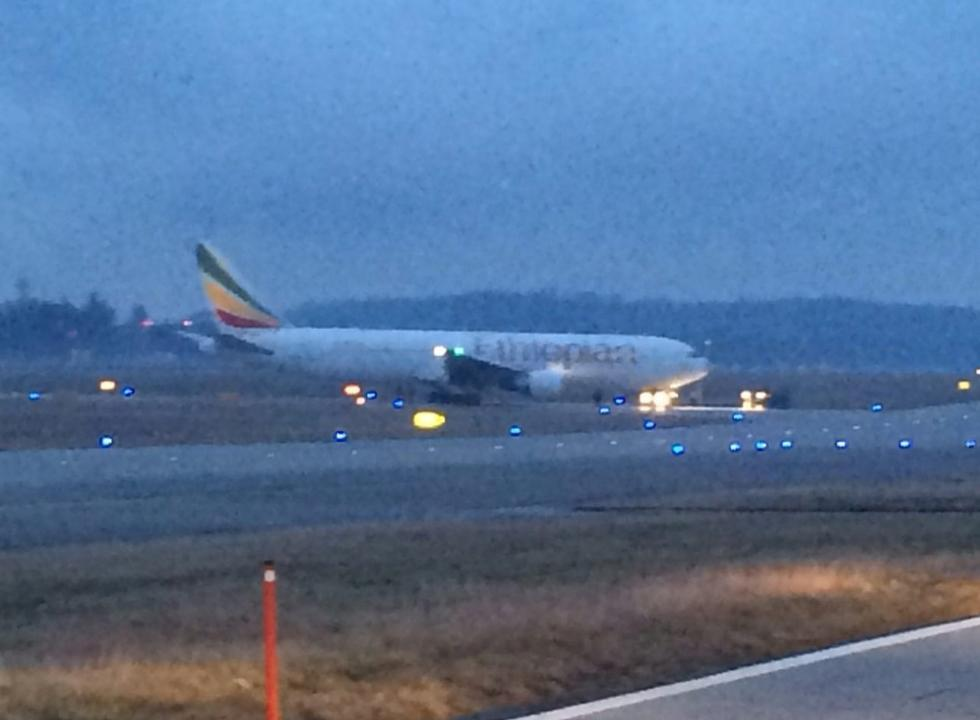airplane: (190, 229, 727, 410)
